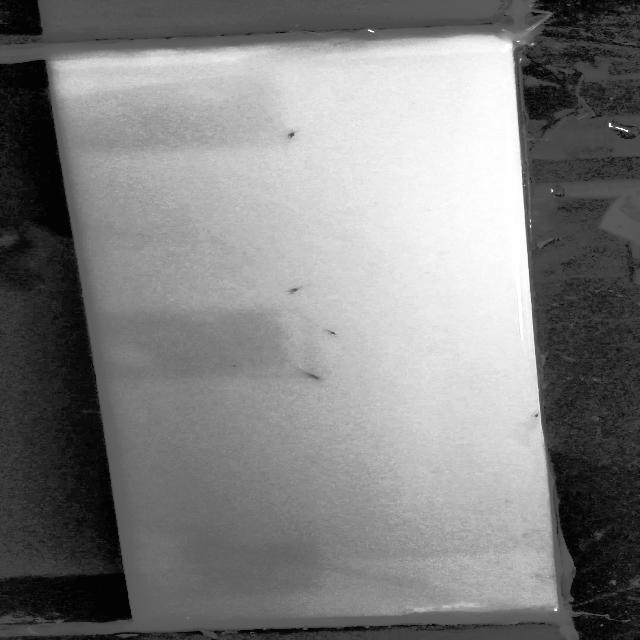shrimp: (282, 365, 342, 390), (310, 324, 356, 343), (275, 126, 314, 146), (279, 279, 310, 302)
